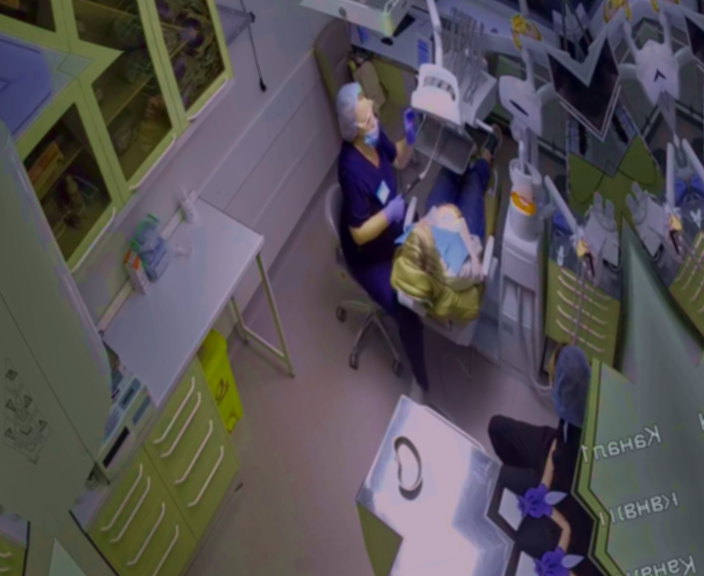Patient: (359, 125, 548, 355)
